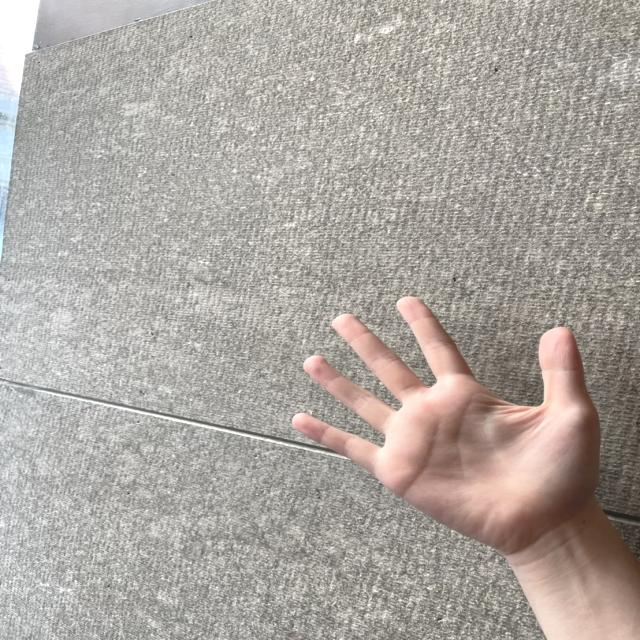no_glove: (265, 286, 614, 562)
